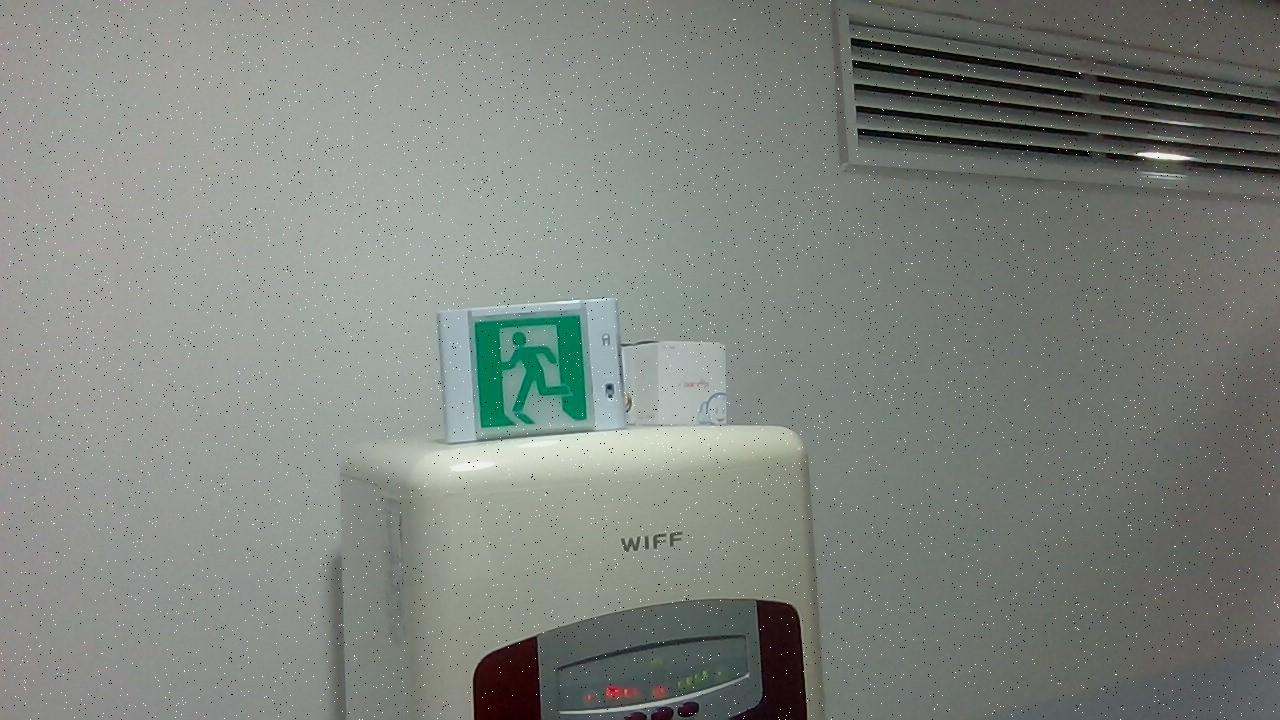emergency_exit: (338, 424, 823, 718), (471, 597, 807, 719), (436, 297, 626, 444)
